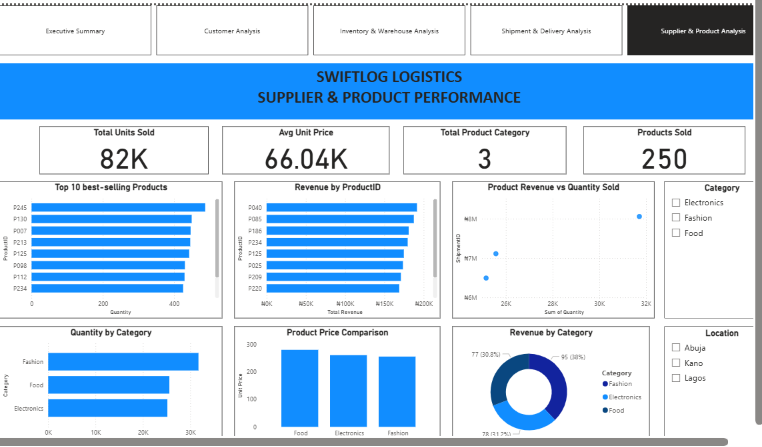

The page's visual inventory and layout, read from the dashboard file:
{"tool":"powerbi","page":{"name":" Supplier & Product Analysis","canvas":[1500,850],"ordinal":4},"visuals":[{"type":"textbox","box":[0,111.5,1500,107.7],"z":0},{"type":"donutChart","title":"Revenue by Category","fields":{"Category":["SwiftLog_Products.Category"],"Y":["CountNonNull(SwiftLog_Products.ProductID)"]},"box":[870.8,616.7,379.2,233.3],"z":2},{"type":"barChart","title":"Top 10 best-selling Products","fields":{"Category":["SwiftLog_Products.ProductID"],"Y":["Sum(SwiftLog_Order_Items.Quantity)"]},"box":[0,338.5,428.8,263.5],"z":3},{"type":"clusteredBarChart","title":" Revenue by ProductID","fields":{"Category":["SwiftLog_Products.ProductID"],"Y":["SwiftLog_Customers.Total Revenue"]},"box":[451.9,338.5,396.2,263.5],"z":4},{"type":"scatterChart","title":"Product Revenue vs Quantity Sold","fields":{"X":["Sum(SwiftLog_Order_Items.Quantity)"],"Y":["SwiftLog_Customers.Total Revenue"],"Category":["SwiftLog_Products.Category"]},"box":[871.2,338.5,388.5,263.5],"z":5},{"type":"card","title":"Total Units Sold","fields":{"Values":["Sum(SwiftLog_Order_Items.Quantity)"]},"box":[76.9,232.7,325,92.3],"z":6},{"type":"card","title":"Avg Unit Price","fields":{"Values":["Sum(SwiftLog_Products.UnitPrice)"]},"box":[428.8,232.7,321.2,92.3],"z":7},{"type":"card","title":"Total Product Category","fields":{"Values":["Count(SwiftLog_Products.Category)"]},"box":[776.9,232.7,313.5,92.3],"z":8},{"type":"card","title":"Products Sold","fields":{"Values":["Count(SwiftLog_Products.ProductID)"]},"box":[1123.1,232.7,311.5,92.3],"z":9},{"type":"clusteredColumnChart","title":"Product Price  Comparison","fields":{"Category":["SwiftLog_Products.Category"],"Y":["Avg(SwiftLog_Products.UnitPrice)"]},"box":[452.1,616.7,395.8,233.3],"z":10},{"type":"clusteredBarChart","title":" Quantity by Category","fields":{"Category":["SwiftLog_Products.Category"],"Y":["Sum(SwiftLog_Order_Items.Quantity)"]},"box":[0,617.3,428.8,232.7],"z":11},{"type":"slicer","title":"Category","fields":{"Values":["SwiftLog_Products.Category"]},"box":[1278.8,338.5,221.2,263.5],"z":12},{"type":"slicer","title":"Location","fields":{"Values":["SwiftLog_Warehouses.Location"]},"box":[1279.2,616.7,220.8,233.3],"z":13},{"type":"pageNavigator","box":[0,0,1500,96.2],"z":14}]}

Visuals, with their boxes on the page's 1500x850 design canvas (x1, y1, x2, y2). These are canvas units, not pixel positions in the 762x447 screenshot, which may show the page scaled, cropped or inside an application window:
textbox: BBox(0, 112, 1500, 219)
"Revenue by Category" donutChart: BBox(871, 617, 1250, 850)
"Top 10 best-selling Products" barChart: BBox(0, 338, 429, 602)
" Revenue by ProductID" clusteredBarChart: BBox(452, 338, 848, 602)
"Product Revenue vs Quantity Sold" scatterChart: BBox(871, 338, 1260, 602)
"Total Units Sold" card: BBox(77, 233, 402, 325)
"Avg Unit Price" card: BBox(429, 233, 750, 325)
"Total Product Category" card: BBox(777, 233, 1090, 325)
"Products Sold" card: BBox(1123, 233, 1435, 325)
"Product Price  Comparison" clusteredColumnChart: BBox(452, 617, 848, 850)
" Quantity by Category" clusteredBarChart: BBox(0, 617, 429, 850)
"Category" slicer: BBox(1279, 338, 1500, 602)
"Location" slicer: BBox(1279, 617, 1500, 850)
pageNavigator: BBox(0, 0, 1500, 96)
